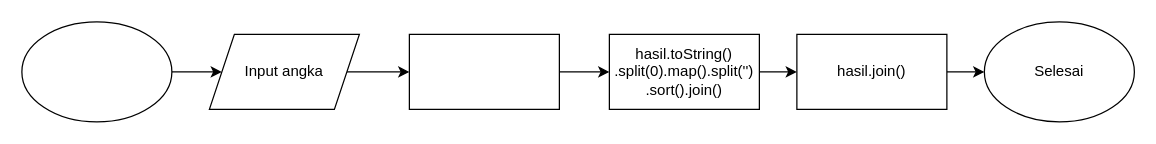
Some shapes in this 1156 by 144 pixel diagram are drawn without their labels. Here are the shapes that lost their labels. From the top down, the centre of each, then its label:
point 96,71: Mulai
point 483,71: Let hasil = angka.
